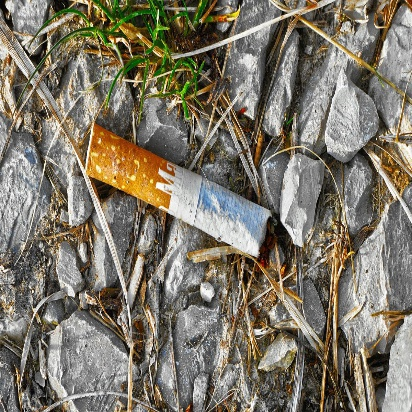cigarette: (82, 120, 282, 264)
